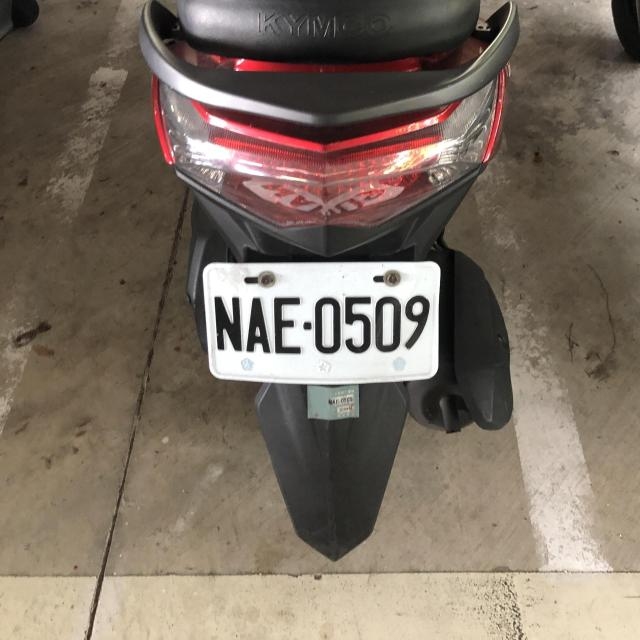W: (201, 256, 441, 387)
